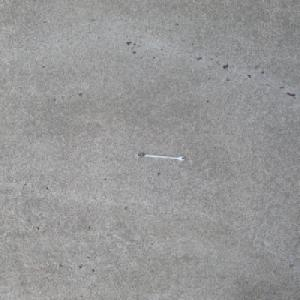Wrench: (135, 153, 185, 161)
